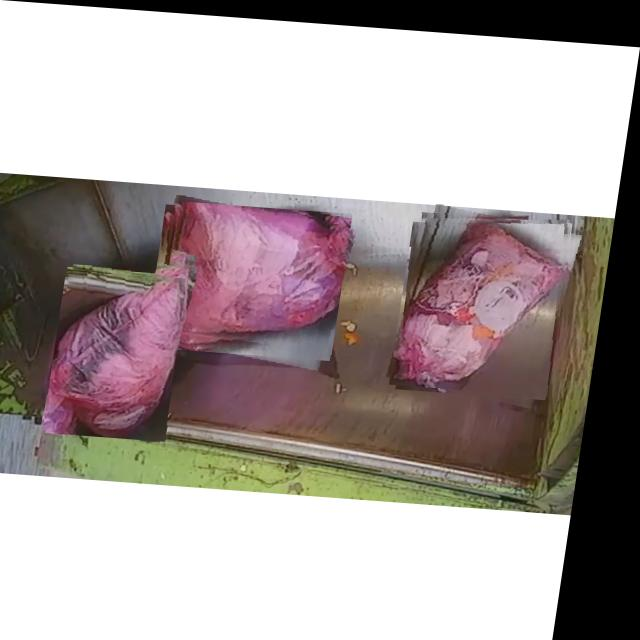other_trashbag: (404, 209, 573, 380), (172, 199, 351, 331), (62, 274, 189, 435)
